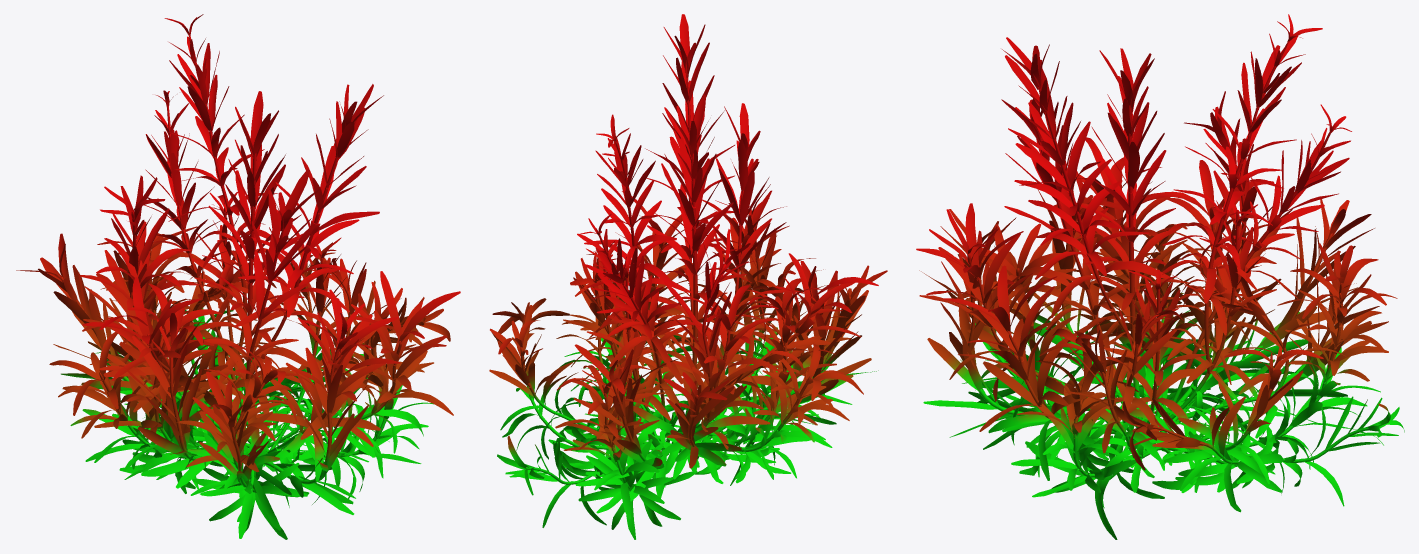
The model's file is Var4_LOD0.fbx.
3 views of the same model, side by side, from view 1: azimuth 30°, elevation 25°; view 2: azimuth 150°, elevation 25°; view 3: azimuth 270°, elevation 25° (orthographic). The views are drawn at different scales.
Parts seen in each view (by area): view 1: _5kcl_Var4_LOD0; view 2: _5kcl_Var4_LOD0; view 3: _5kcl_Var4_LOD0.
Part boxes in pixels (box(x1,y1,x2,y2)): _5kcl_Var4_LOD0: box(16, 14, 460, 539); _5kcl_Var4_LOD0: box(489, 14, 887, 539); _5kcl_Var4_LOD0: box(916, 14, 1404, 539).
Size of the model in its own units: 28.52 by 31.97 by 29.14.
